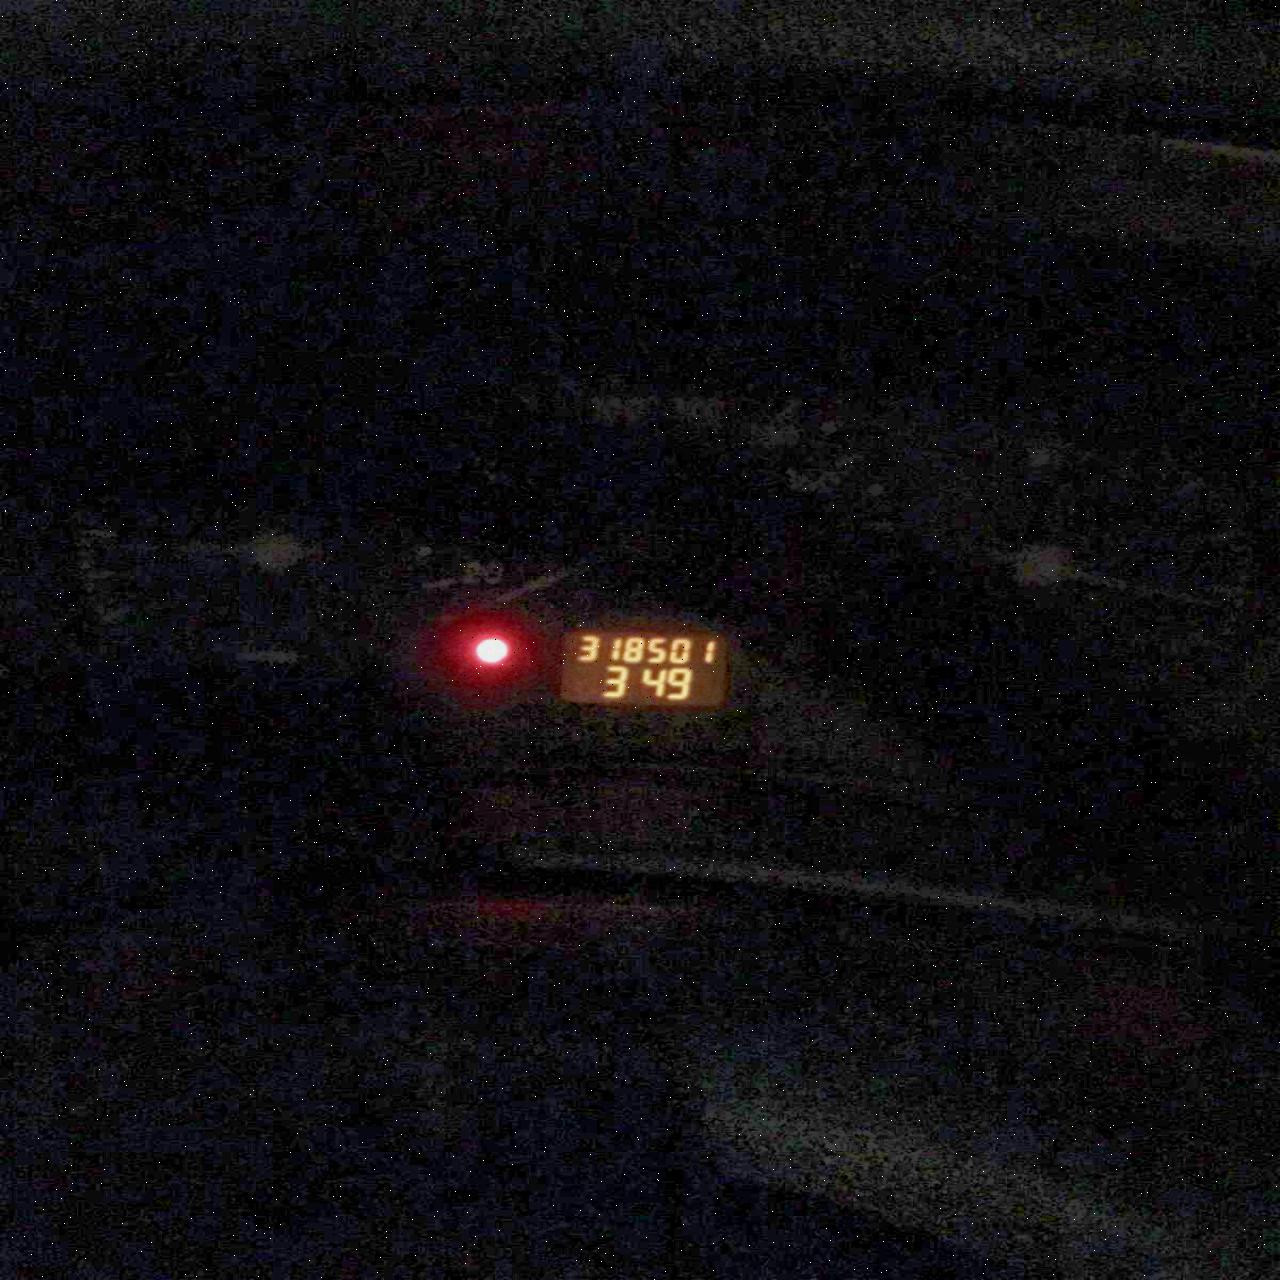0: (668, 638, 690, 663)
1: (702, 640, 716, 662), (611, 636, 621, 659)
3: (601, 665, 627, 697), (576, 634, 598, 661)
4: (639, 667, 667, 696)
5: (645, 636, 667, 663)
8: (621, 636, 645, 663)
9: (665, 667, 694, 699)
odometer: (553, 626, 729, 709)
